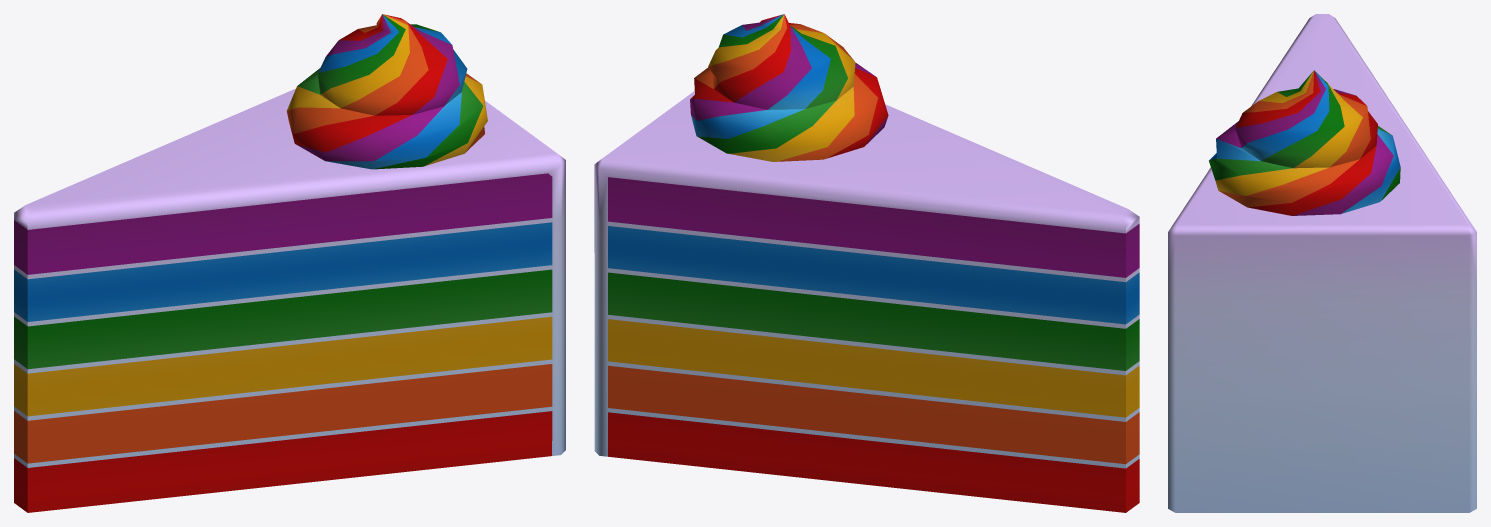
The model's file is Product Rainbow Cake.fbx.
The picture shows the model from 3 angles, left to right: view 1: azimuth 30°, elevation 25°; view 2: azimuth 150°, elevation 25°; view 3: azimuth 270°, elevation 25°; orthographic projection. The views are drawn at different scales.
Parts seen in each view (by area): view 1: Product_Rainbow_Cake; view 2: Product_Rainbow_Cake; view 3: Product_Rainbow_Cake.
Boxes of the visible parts, bbox=[...] form: Product_Rainbow_Cake: bbox=[14, 14, 565, 512]; Product_Rainbow_Cake: bbox=[594, 14, 1139, 512]; Product_Rainbow_Cake: bbox=[1168, 14, 1476, 512].
Bounding box in the file's own units: 119 × 99.69 × 71.3.
